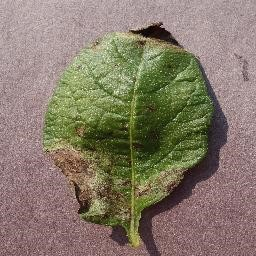po_Lb: (39, 20, 211, 230)
